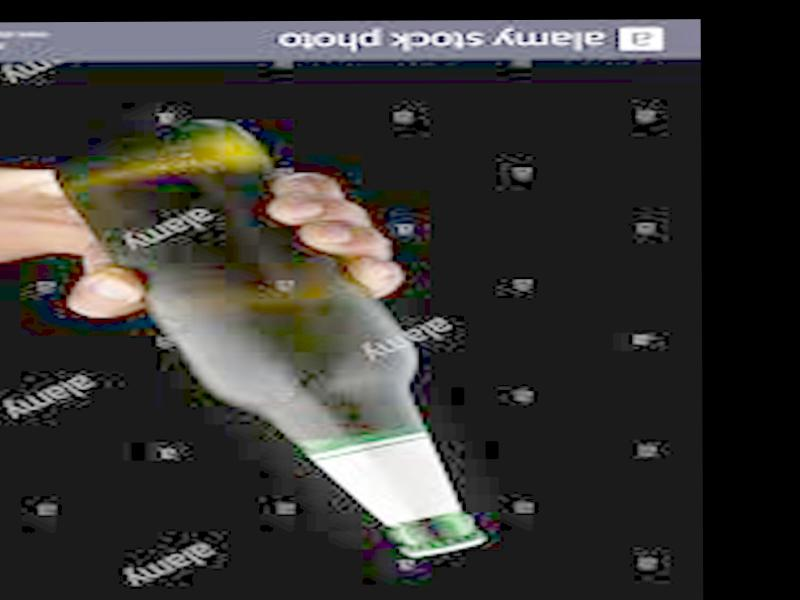Beer: (53, 113, 489, 561)
